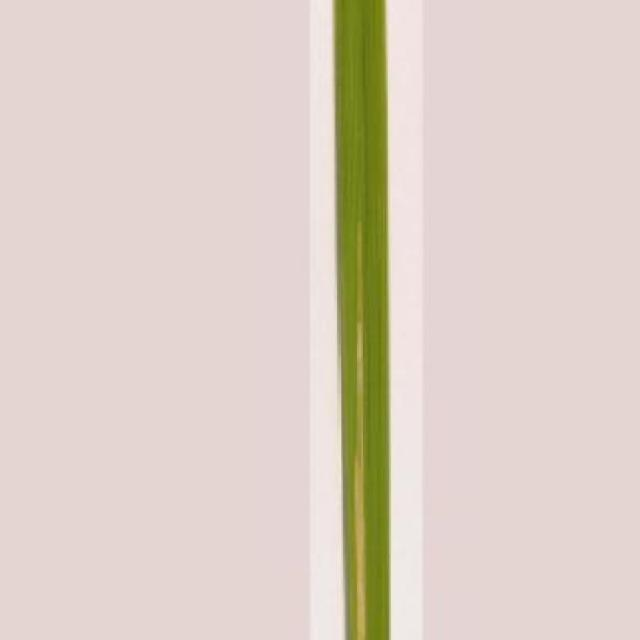Brown_Spot: (327, 0, 395, 640)
